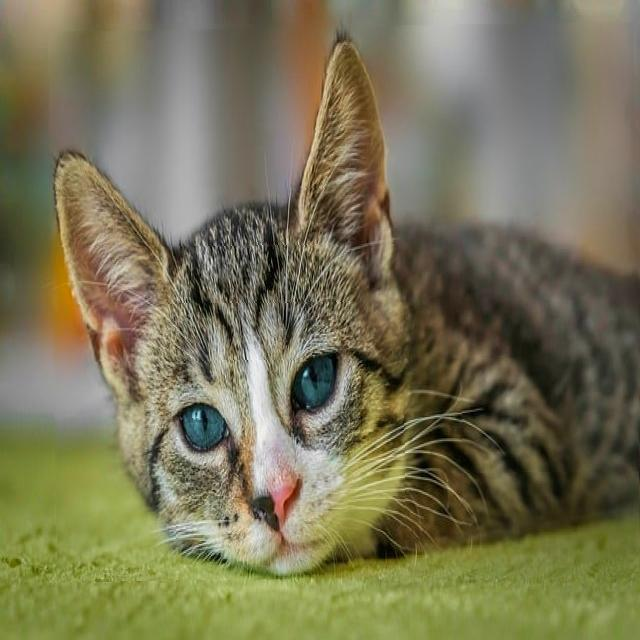cat: (50, 23, 640, 579)
